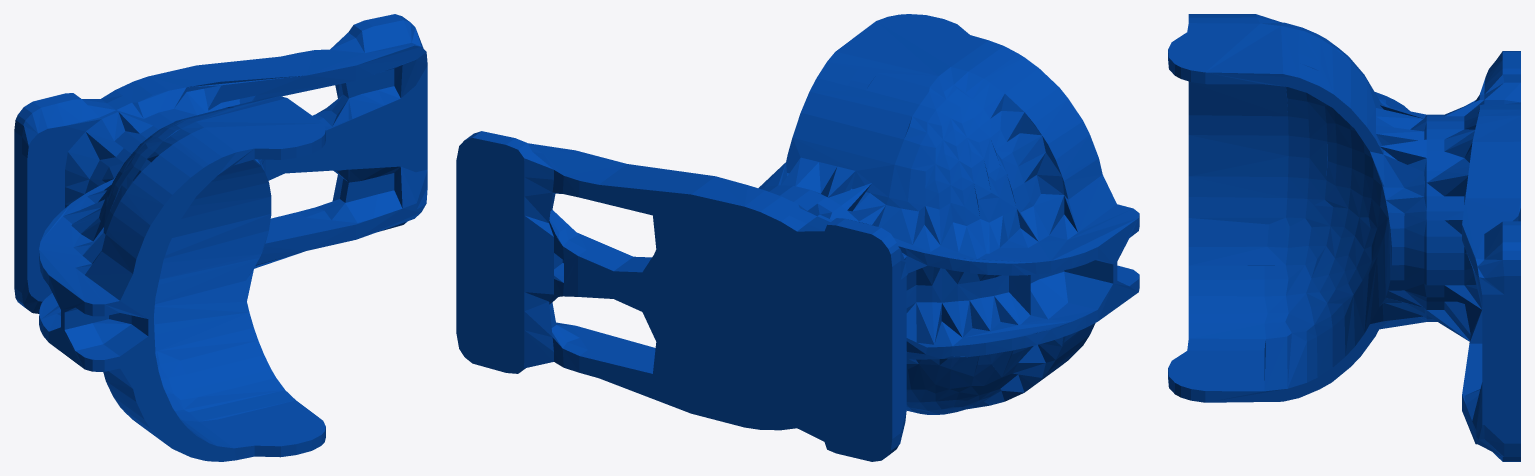
Rendered from foot.stl.obj.
3 views of the same model, side by side, from view 1: azimuth 30°, elevation 25°; view 2: azimuth 150°, elevation 25°; view 3: azimuth 270°, elevation 25° (orthographic). The views are drawn at different scales.
Visible parts, largest first — view 1: <STL_BINARY>; view 2: <STL_BINARY>; view 3: <STL_BINARY>.
Part boxes in pixels (x1,y1,x2,y2): <STL_BINARY>: (14, 14, 427, 461); <STL_BINARY>: (456, 14, 1139, 461); <STL_BINARY>: (1168, 14, 1520, 461).
Size of the model in its own units: 0.227 by 0.1414 by 0.1369.
